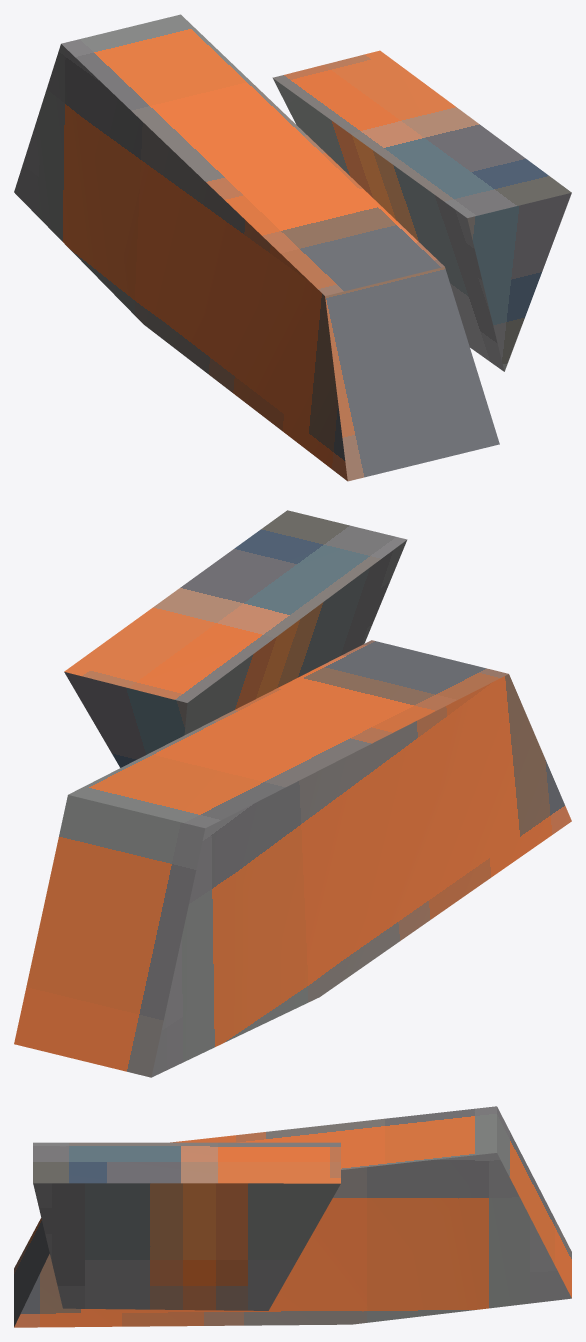
3 renders of one model, top to bottom at view 1: azimuth 30°, elevation 25°; view 2: azimuth 150°, elevation 25°; view 3: azimuth 270°, elevation 25°, orthographic. The views are drawn at different scales.
Visible parts, largest first — view 1: Hgn_PulsarCorvette_LOD2; view 2: Hgn_PulsarCorvette_LOD2; view 3: Hgn_PulsarCorvette_LOD2.
Part boxes in pixels (<box>): Hgn_PulsarCorvette_LOD2: <box>14,14,571,481</box>; Hgn_PulsarCorvette_LOD2: <box>14,510,571,1077</box>; Hgn_PulsarCorvette_LOD2: <box>14,1106,571,1327</box>.
Size of the model in its own units: 5.74 by 5.14 by 14.65.
